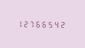five: (47, 20, 52, 28)
four: (53, 20, 58, 28)
one: (17, 19, 22, 27)
seven: (29, 19, 34, 27)
six: (41, 19, 46, 28), (35, 19, 40, 27)
two: (23, 19, 28, 27), (59, 20, 64, 28)
